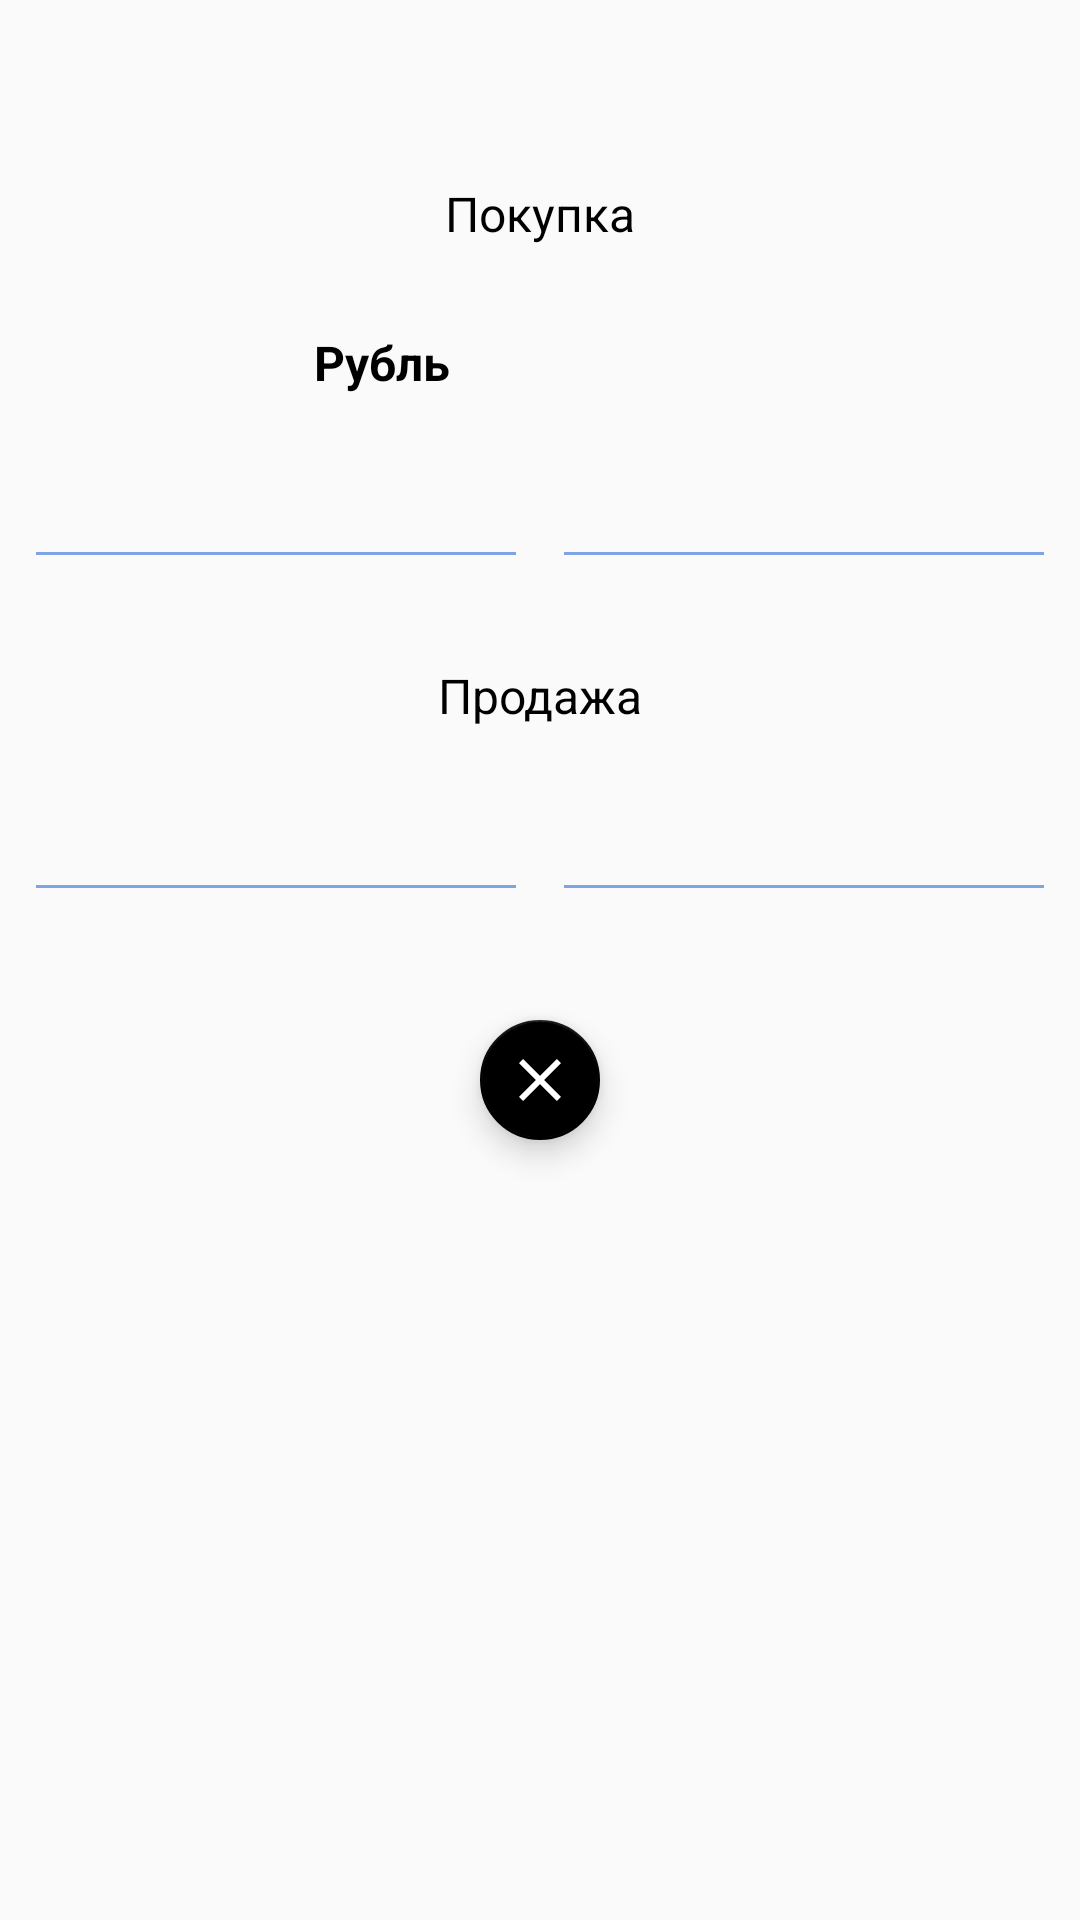

Screen size 1080*1920. Icon name, then its box in pixels as (x1, y1, x2, y2):
close: (480, 1020, 600, 1140)
